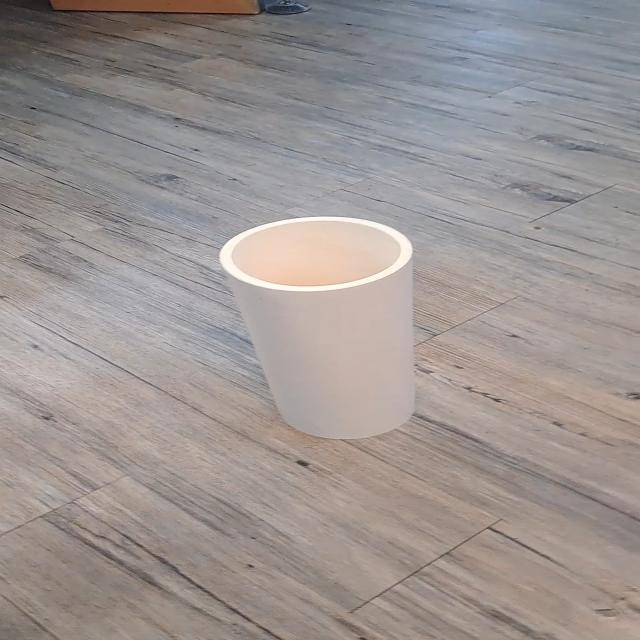CORAL: (181, 195, 473, 465)
